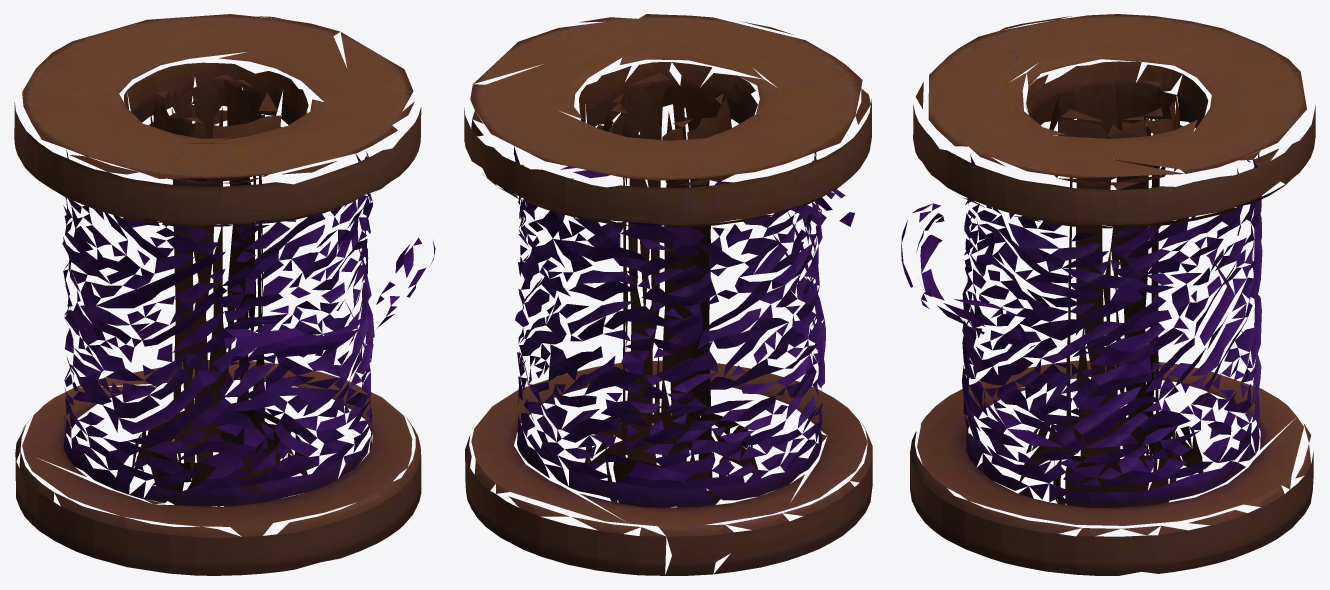
The model's file is spool.glb.
The picture shows the model from 3 angles, left to right: view 1: azimuth 30°, elevation 25°; view 2: azimuth 150°, elevation 25°; view 3: azimuth 270°, elevation 25°; orthographic projection.
Parts seen in each view (by area): view 1: world.001; view 2: world.001; view 3: world.001.
Boxes of the visible parts, left/top/right/bottom form: world.001: left=14, top=14, right=435, bottom=575; world.001: left=464, top=14, right=872, bottom=575; world.001: left=901, top=14, right=1315, bottom=575.
Size of the model in its own units: 0.4546 by 0.4863 by 0.4614.
1 material, 1 textured.
